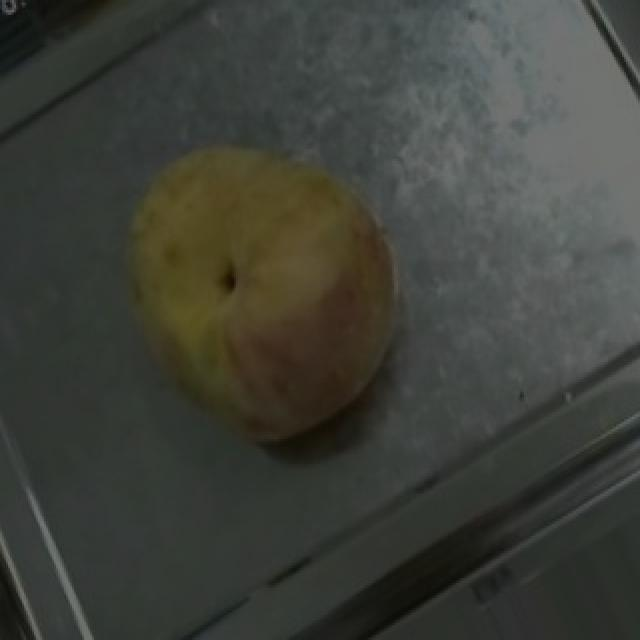Fruit: (80, 102, 404, 429)
